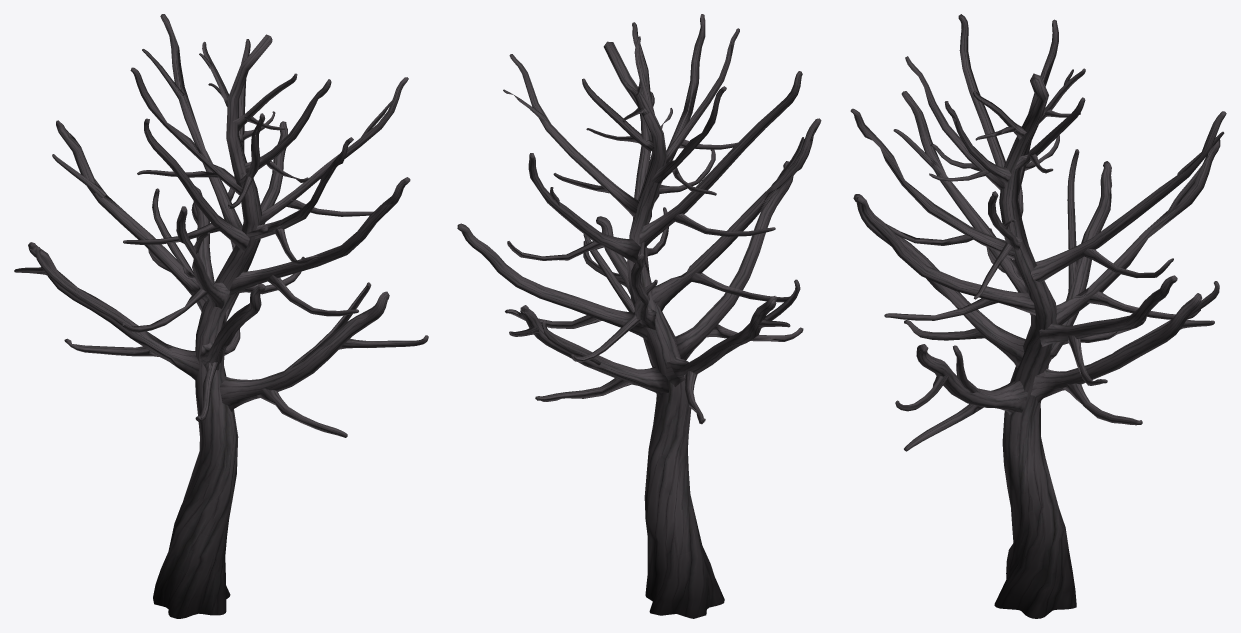
The model's file is DeadTree_1.glb.
3 renders of one model, left to right at view 1: azimuth 30°, elevation 25°; view 2: azimuth 150°, elevation 25°; view 3: azimuth 270°, elevation 25°, orthographic. The views are drawn at different scales.
Visible parts, largest first — view 1: DeadTree_1; view 2: DeadTree_1; view 3: DeadTree_1.
Part boxes in pixels (x1,y1,x2,y2): DeadTree_1: [14, 14, 428, 618]; DeadTree_1: [457, 14, 821, 618]; DeadTree_1: [850, 14, 1226, 618].
Bounding box in the file's own units: 6.15 × 9.5 × 5.75.
1 material, 1 textured.
